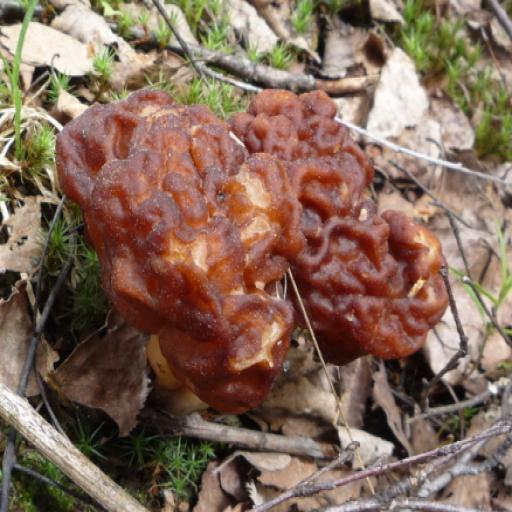mushroom: (49, 13, 461, 433)
